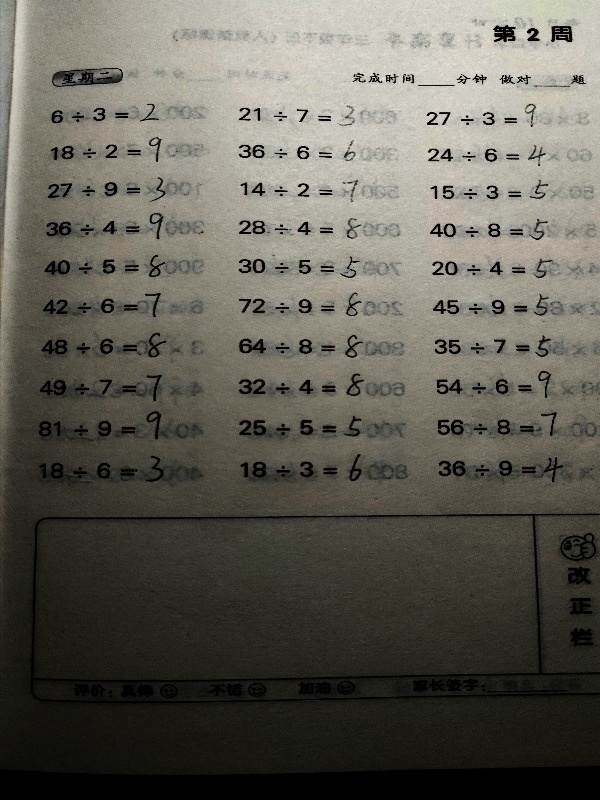equation: (435, 451, 570, 490), (36, 409, 171, 447), (36, 454, 172, 488), (234, 413, 391, 442), (430, 366, 559, 401), (43, 210, 170, 244), (38, 286, 164, 320), (39, 330, 170, 362), (41, 251, 175, 282), (425, 173, 554, 205), (433, 410, 561, 442), (235, 331, 367, 362), (430, 290, 564, 320), (39, 373, 173, 403), (238, 174, 367, 205), (424, 138, 552, 169), (236, 370, 368, 400), (239, 252, 370, 282), (48, 133, 165, 166), (429, 332, 559, 361), (238, 454, 373, 481), (427, 215, 551, 244), (424, 100, 540, 131), (236, 215, 364, 243), (236, 99, 359, 128), (236, 292, 364, 319), (429, 256, 556, 283), (43, 176, 174, 201), (235, 139, 356, 163), (47, 102, 162, 127)
